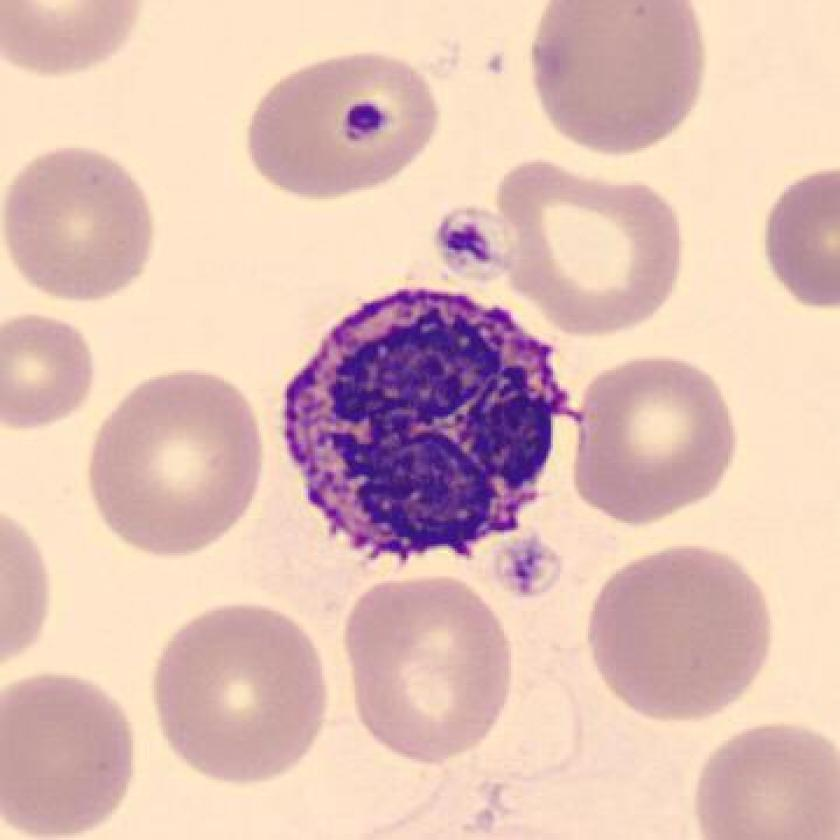basophil: (276, 274, 573, 573)
